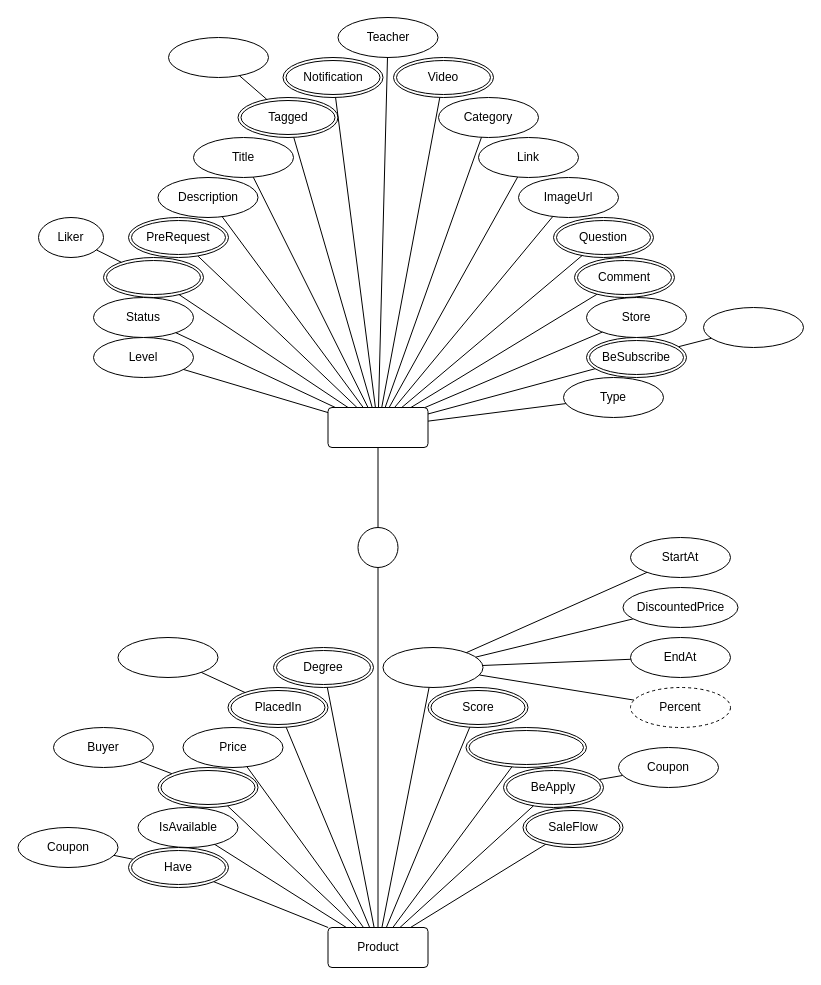
Some shapes in this 821 by 985 pixel diagram are drawn without their labels. Here are the shapes that lost their labels. From the top down, the box of each, then its label:
(168, 36, 268, 78): Tag
(102, 256, 204, 298): BeLike
(702, 306, 804, 348): User
(327, 406, 428, 448): Course
(357, 526, 398, 568): P,D
(117, 636, 218, 678): ShoppingCart
(382, 646, 483, 688): Discount
(465, 726, 586, 768): FriendDiscount
(157, 766, 258, 808): BePurchased
